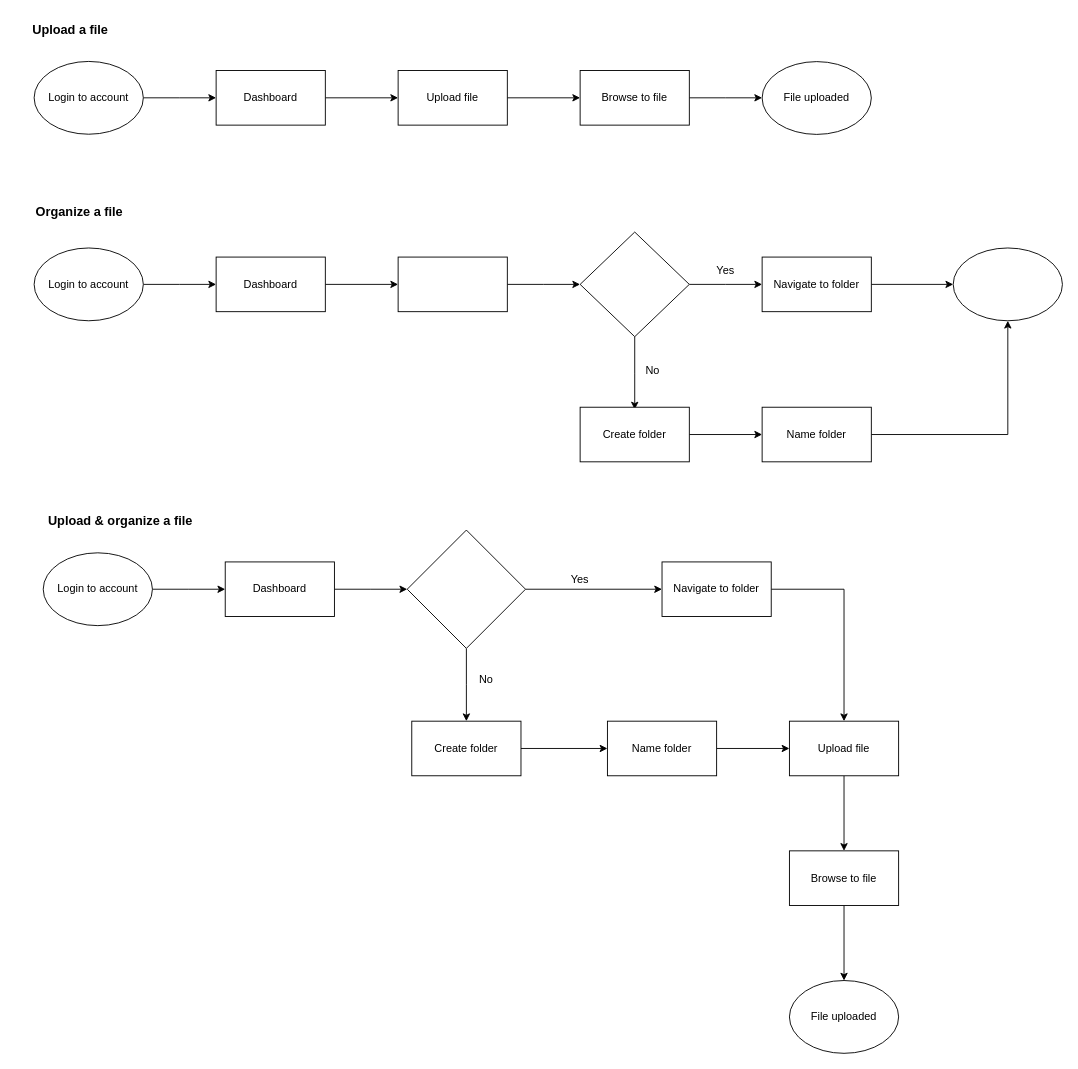
Image size: 1078x1069. Some labels were removed from this diagram. Here are the shapes that lost their labels. From the top down, the centre of each, then its label:
pixel 452 284: Select file
pixel 634 284: Move to existing folder
pixel 1007 284: File moved
pixel 466 588: Upload to existing folder
